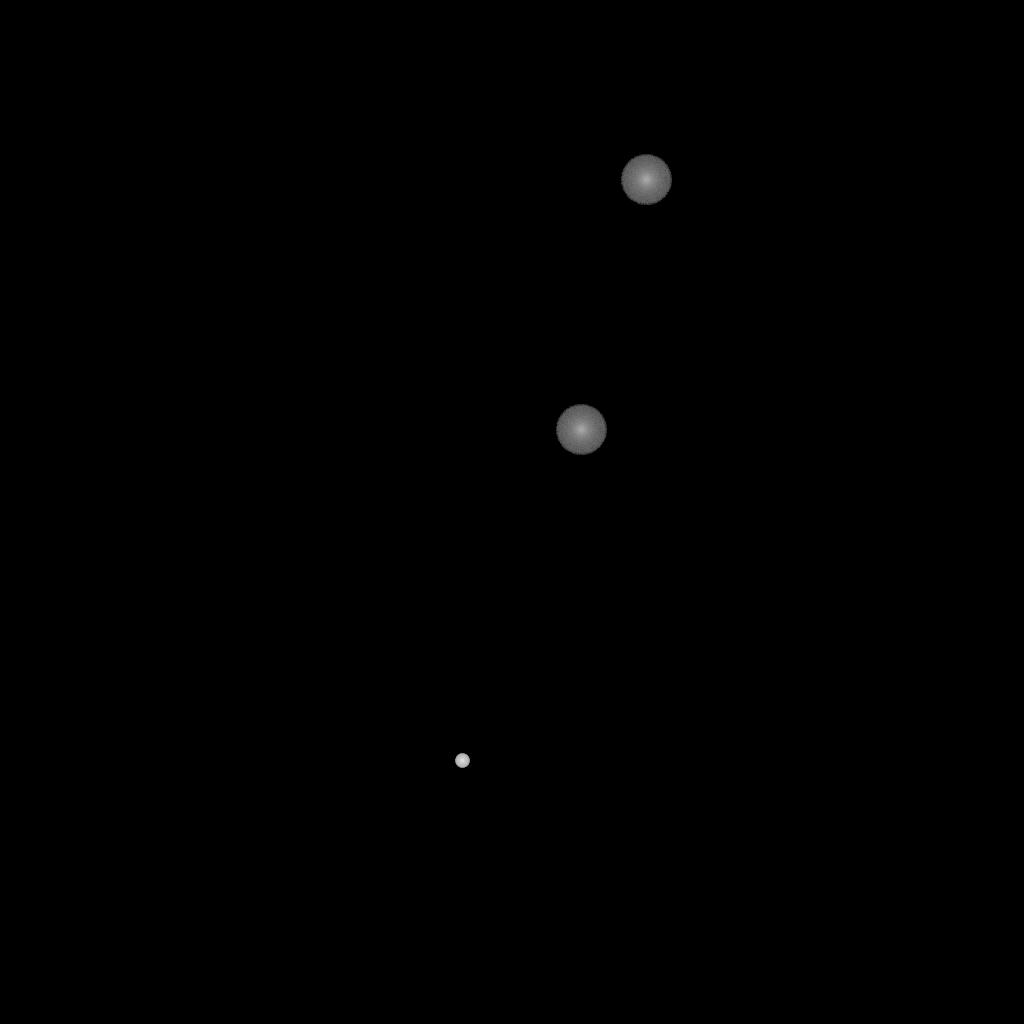depth:-30: (455, 754, 469, 768)
depth:20: (555, 405, 607, 455), (620, 155, 672, 205)
